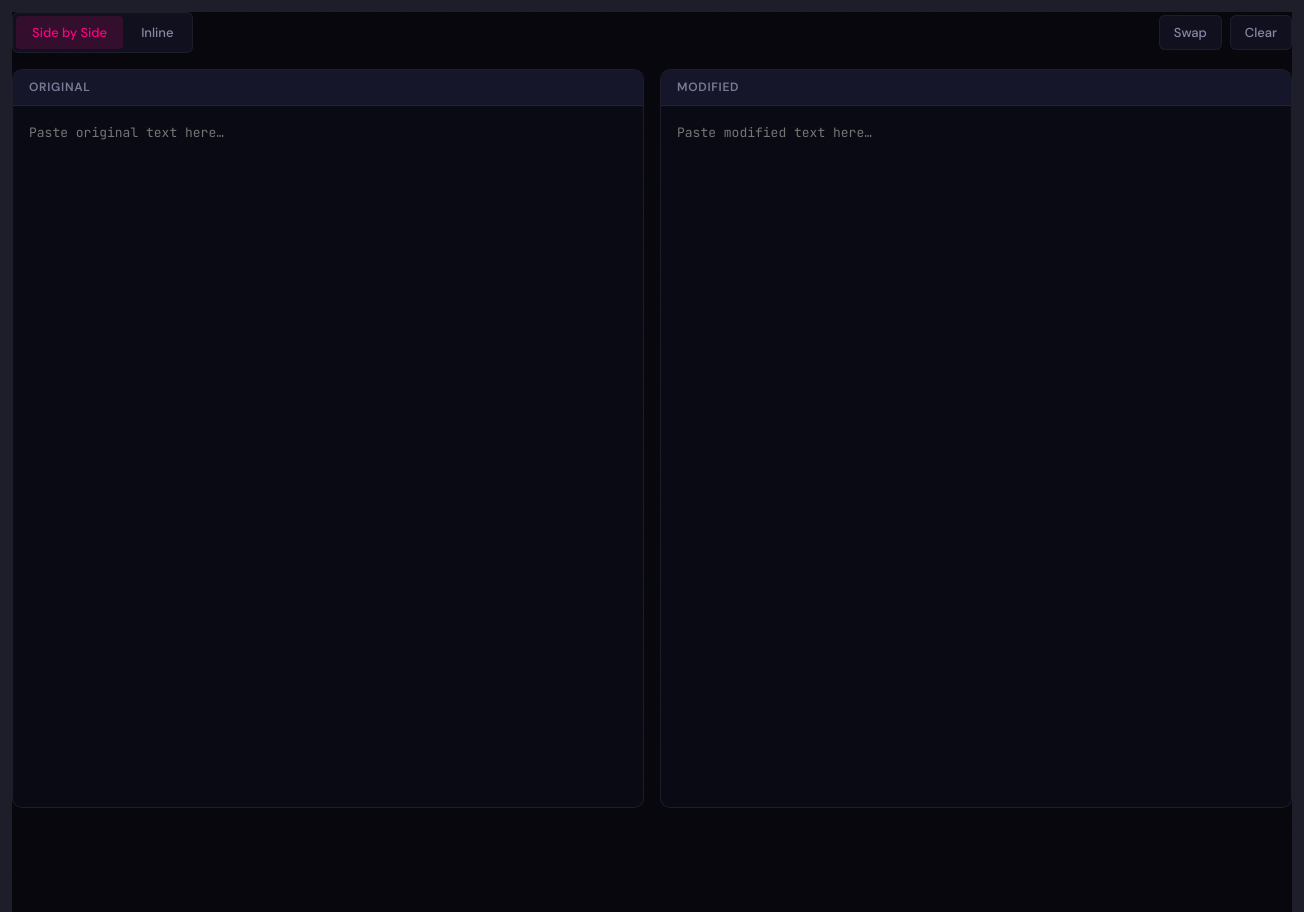
it: DiffChecker › clears both panes when clear is clicked
Type "text" into the text box labelled "Paste original text here…" at x=328, y=457, box x1=13 y1=106 x2=643 y2=807
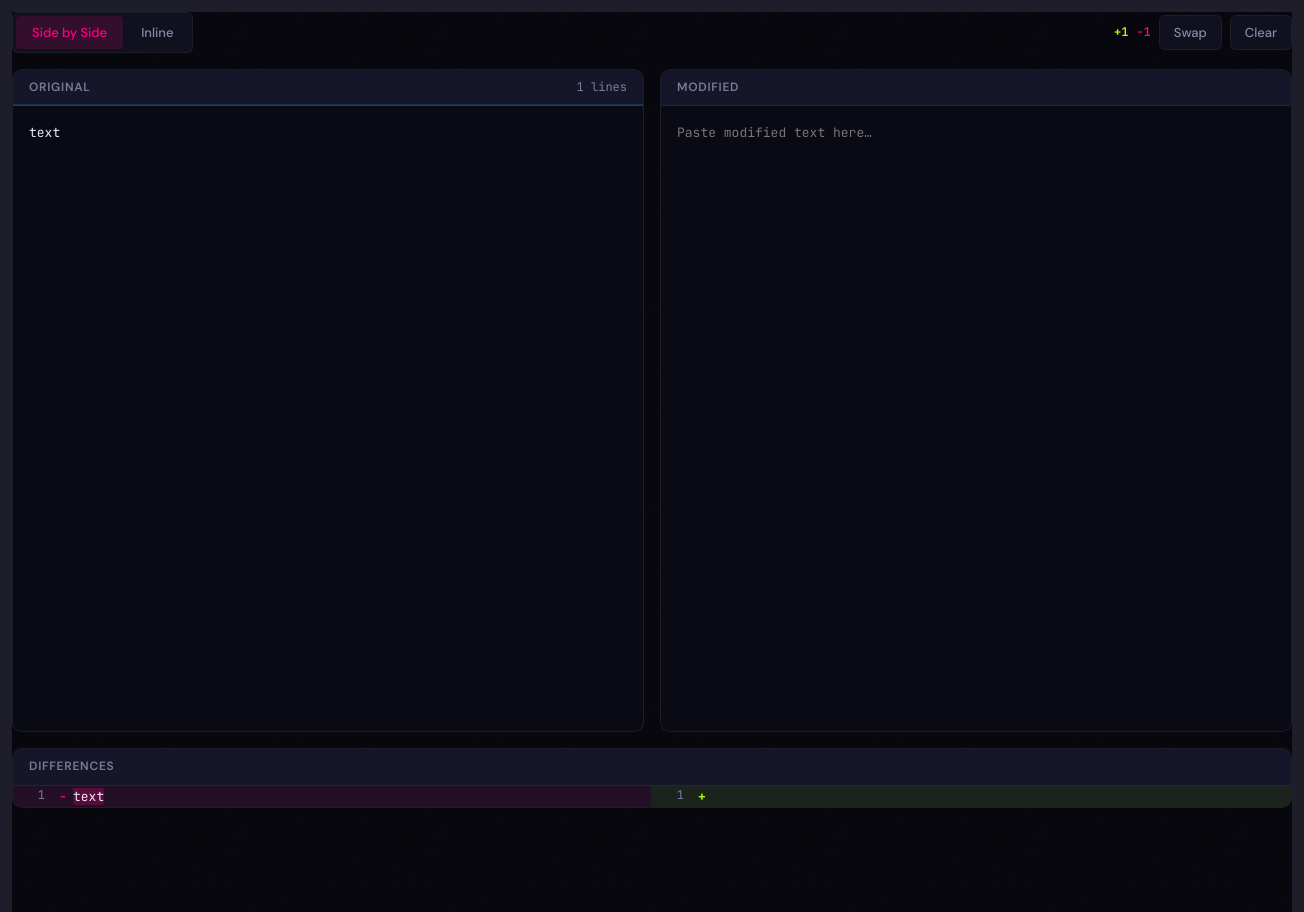
Type "text" into the text box labelled "Paste modified text here…" at x=976, y=419, box x1=661 y1=106 x2=1291 y2=731
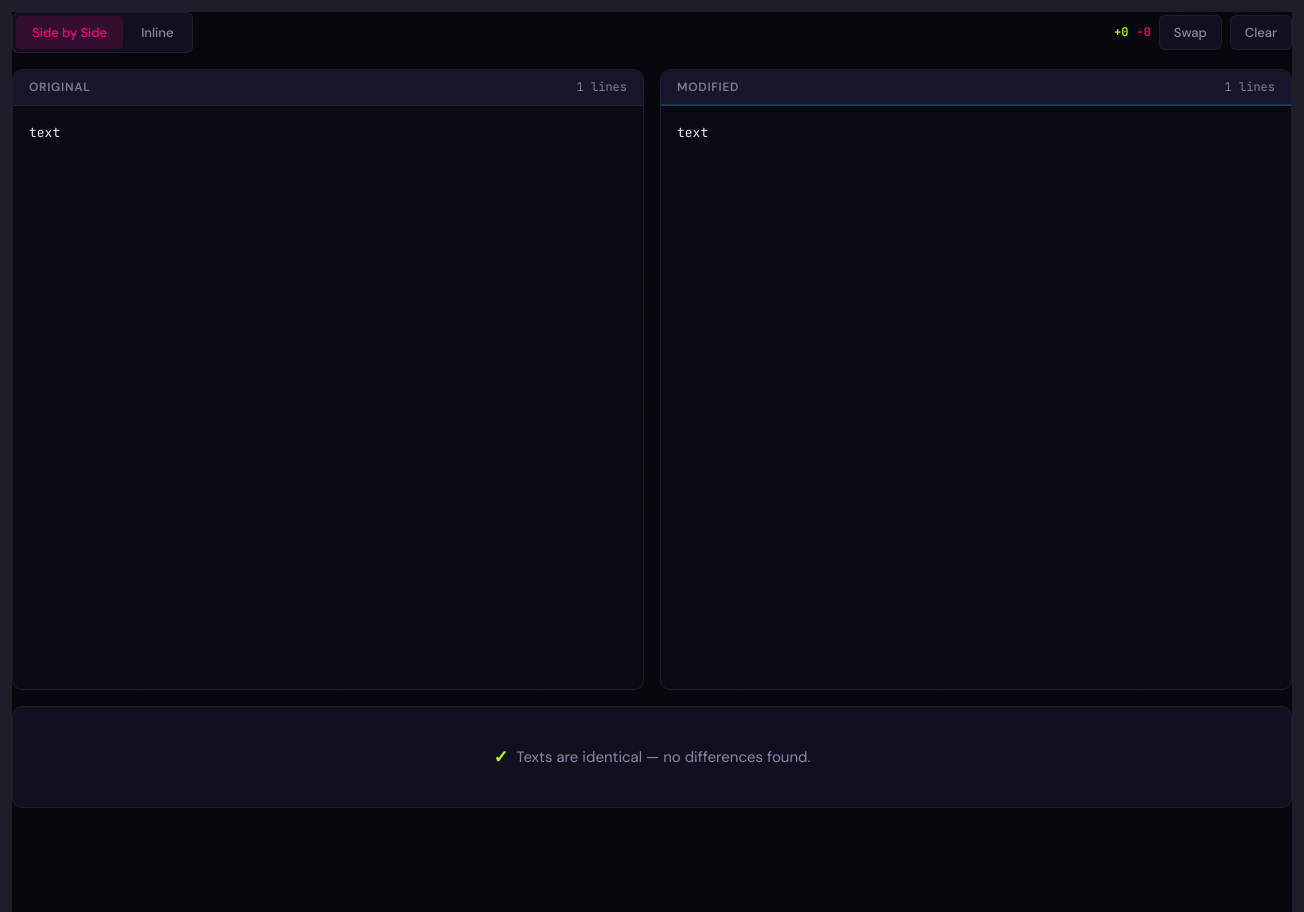
Click the button "Clear" at x=1261, y=32, box x1=1230 y1=15 x2=1292 y2=50
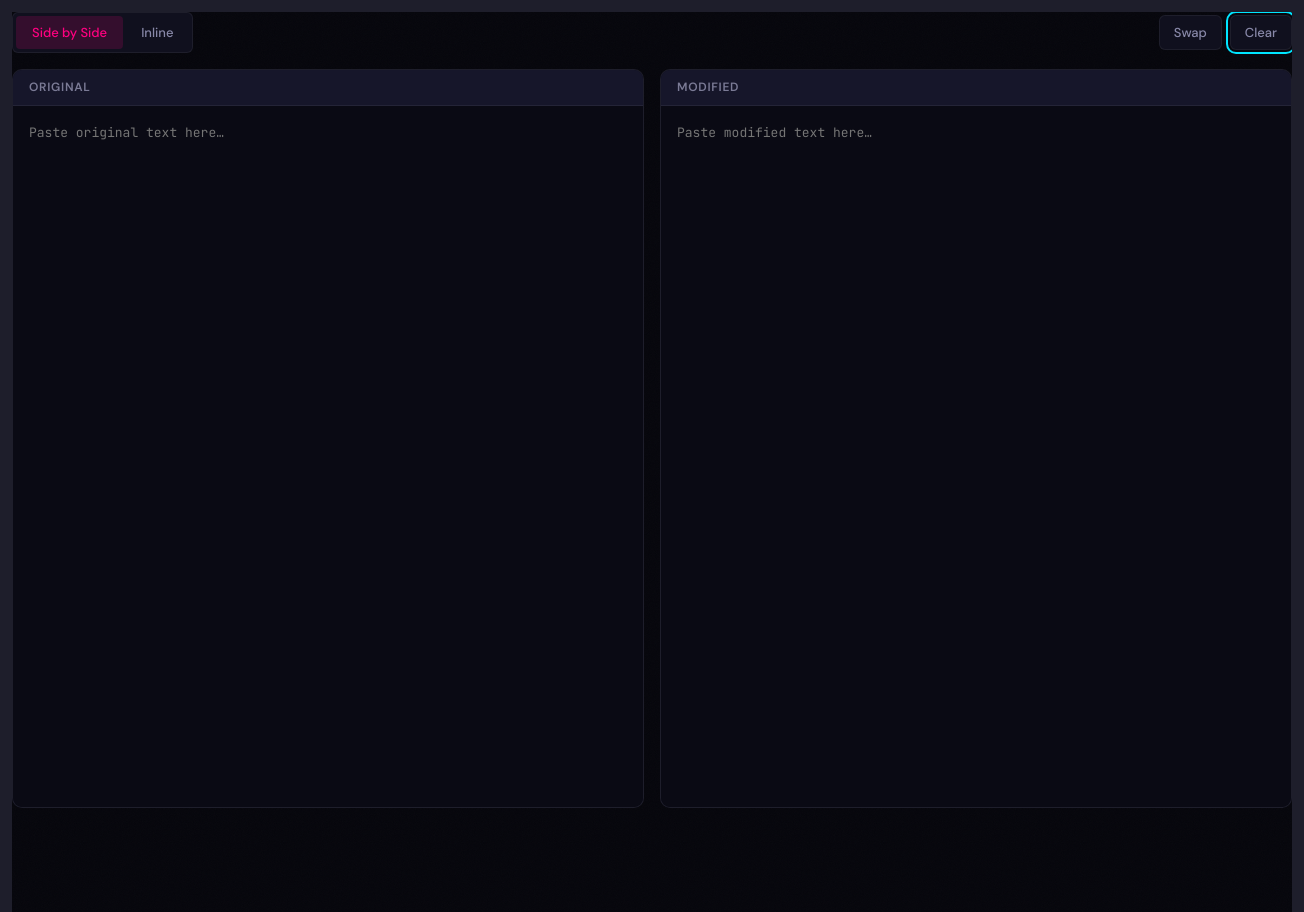
Now the text box labelled "Paste original text here…" is empty, box x1=13 y1=106 x2=643 y2=807
Now the text box labelled "Paste modified text here…" is empty, box x1=661 y1=106 x2=1291 y2=807
